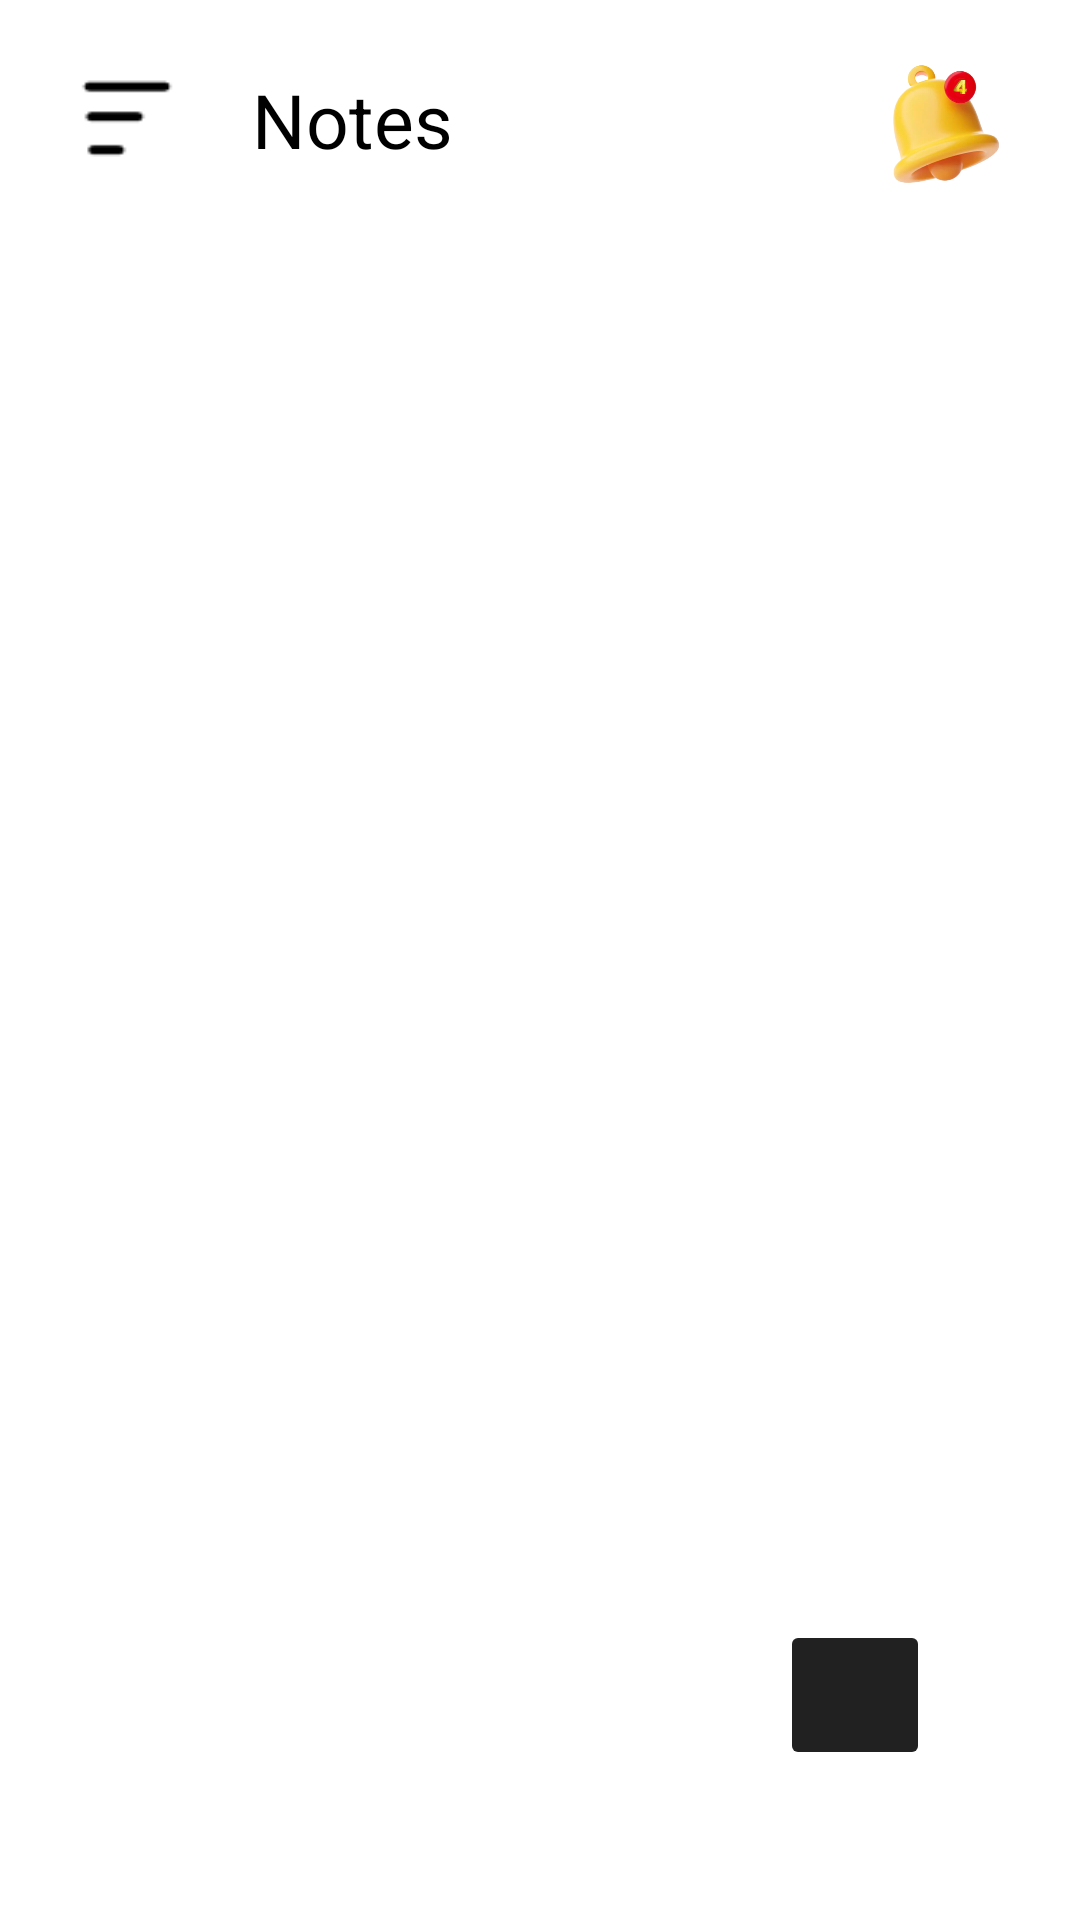

Icon bounding boxes for this 1080 × 1920 phone screenshot, format (x1, y1, x2, y2):
menu: (82, 80, 172, 156)
